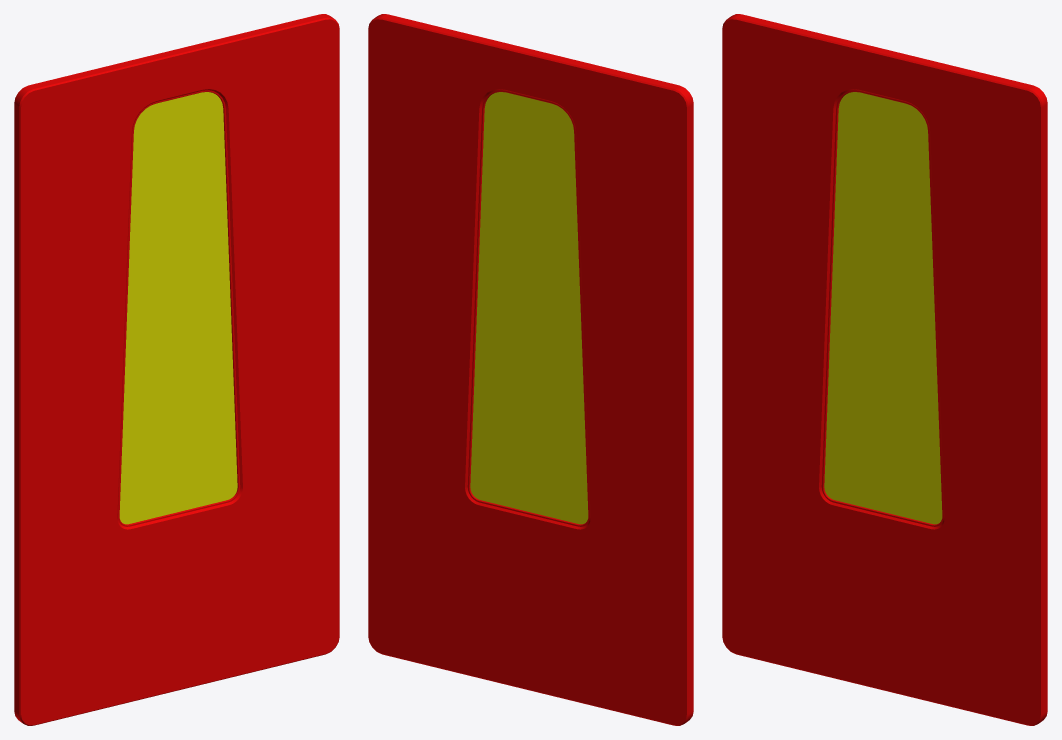
File: Shower_door_1.fbx
3 views of the same model, side by side, from view 1: azimuth 30°, elevation 25°; view 2: azimuth 150°, elevation 25°; view 3: azimuth 330°, elevation 25° (orthographic).
Parts seen in each view (by area): view 1: L12:polySurface30; view 2: L12:polySurface30; view 3: L12:polySurface30.
Boxes of the visible parts, <box> form: L12:polySurface30: <box>14,14,339,725</box>; L12:polySurface30: <box>368,14,693,725</box>; L12:polySurface30: <box>722,14,1047,725</box>.
Size of the model in its own units: 111 by 212 by 3.83.
